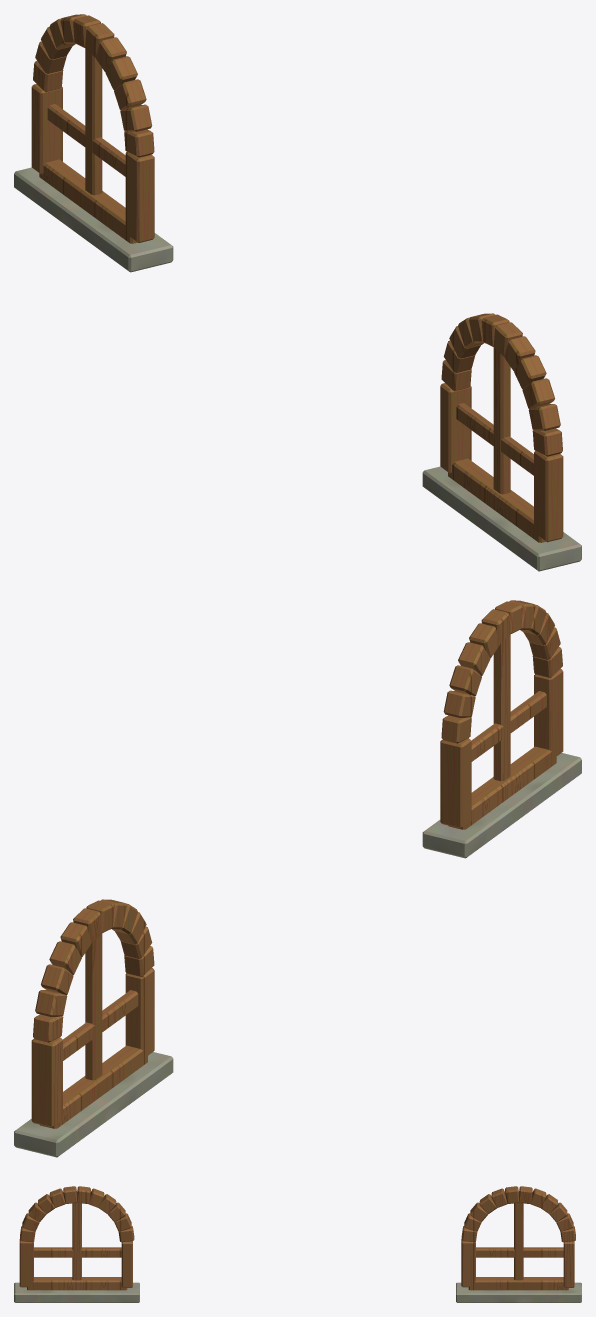
Rendered from SM_HH_V2_Windows_Front.fbx.
3 views of the same model, one above another, from view 1: azimuth 30°, elevation 25°; view 2: azimuth 150°, elevation 25°; view 3: azimuth 270°, elevation 25° (orthographic). The views are drawn at different scales.
Parts seen in each view (by area): view 1: HH_V2_Windows_Front; view 2: HH_V2_Windows_Front; view 3: HH_V2_Windows_Front.
Boxes of the visible parts, x1,y1,x2,y2 form: HH_V2_Windows_Front: [14, 14, 581, 571]; HH_V2_Windows_Front: [14, 600, 581, 1157]; HH_V2_Windows_Front: [14, 1186, 581, 1302].
Bounding box in the file's own units: 7.07 × 0.35 × 1.5.
